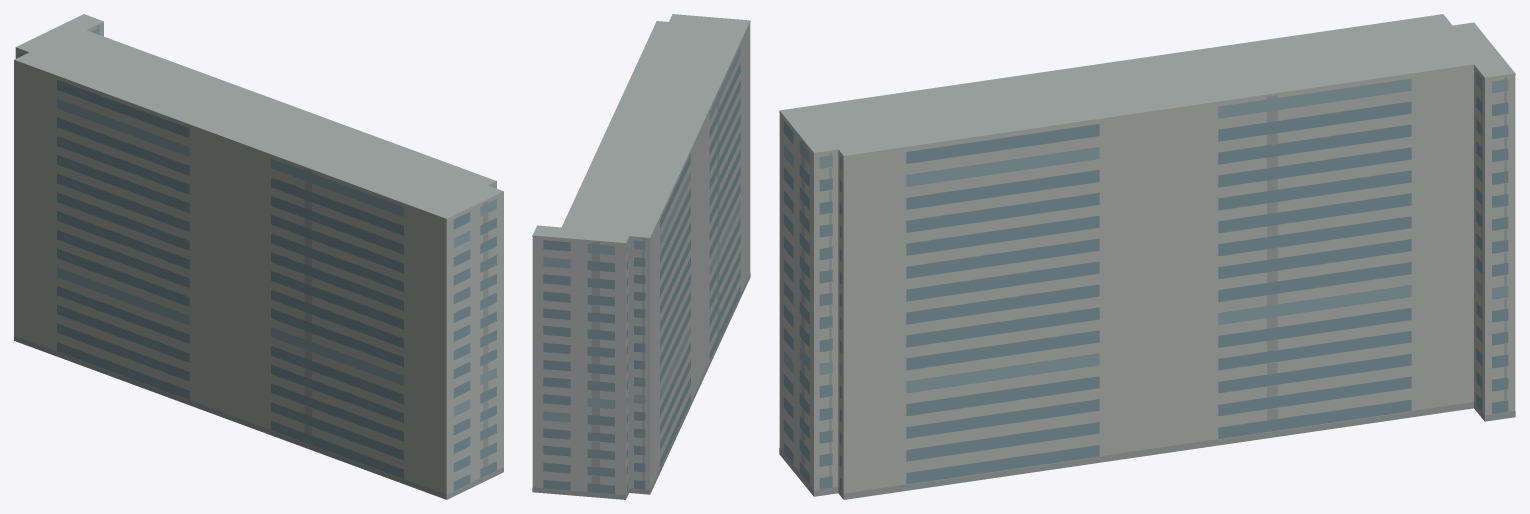
The model's file is residential-d1fdbc21-8b43-45f0-b1cd-7239f5d132dd.glb.
3 views of the same model, side by side, from view 1: azimuth 30°, elevation 25°; view 2: azimuth 150°, elevation 25°; view 3: azimuth 270°, elevation 25° (orthographic). The views are drawn at different scales.
Parts seen in each view (by area): view 1: residential-d1fdbc21-8b43-45f0-b1cd-7239f5d132dd.tmp; view 2: residential-d1fdbc21-8b43-45f0-b1cd-7239f5d132dd.tmp; view 3: residential-d1fdbc21-8b43-45f0-b1cd-7239f5d132dd.tmp.
Part boxes in pixels (<box>): residential-d1fdbc21-8b43-45f0-b1cd-7239f5d132dd.tmp: <box>14,14,503,499</box>; residential-d1fdbc21-8b43-45f0-b1cd-7239f5d132dd.tmp: <box>532,14,750,499</box>; residential-d1fdbc21-8b43-45f0-b1cd-7239f5d132dd.tmp: <box>779,14,1515,499</box>.
Size of the model in its own units: 35.43 by 40 by 77.59.
